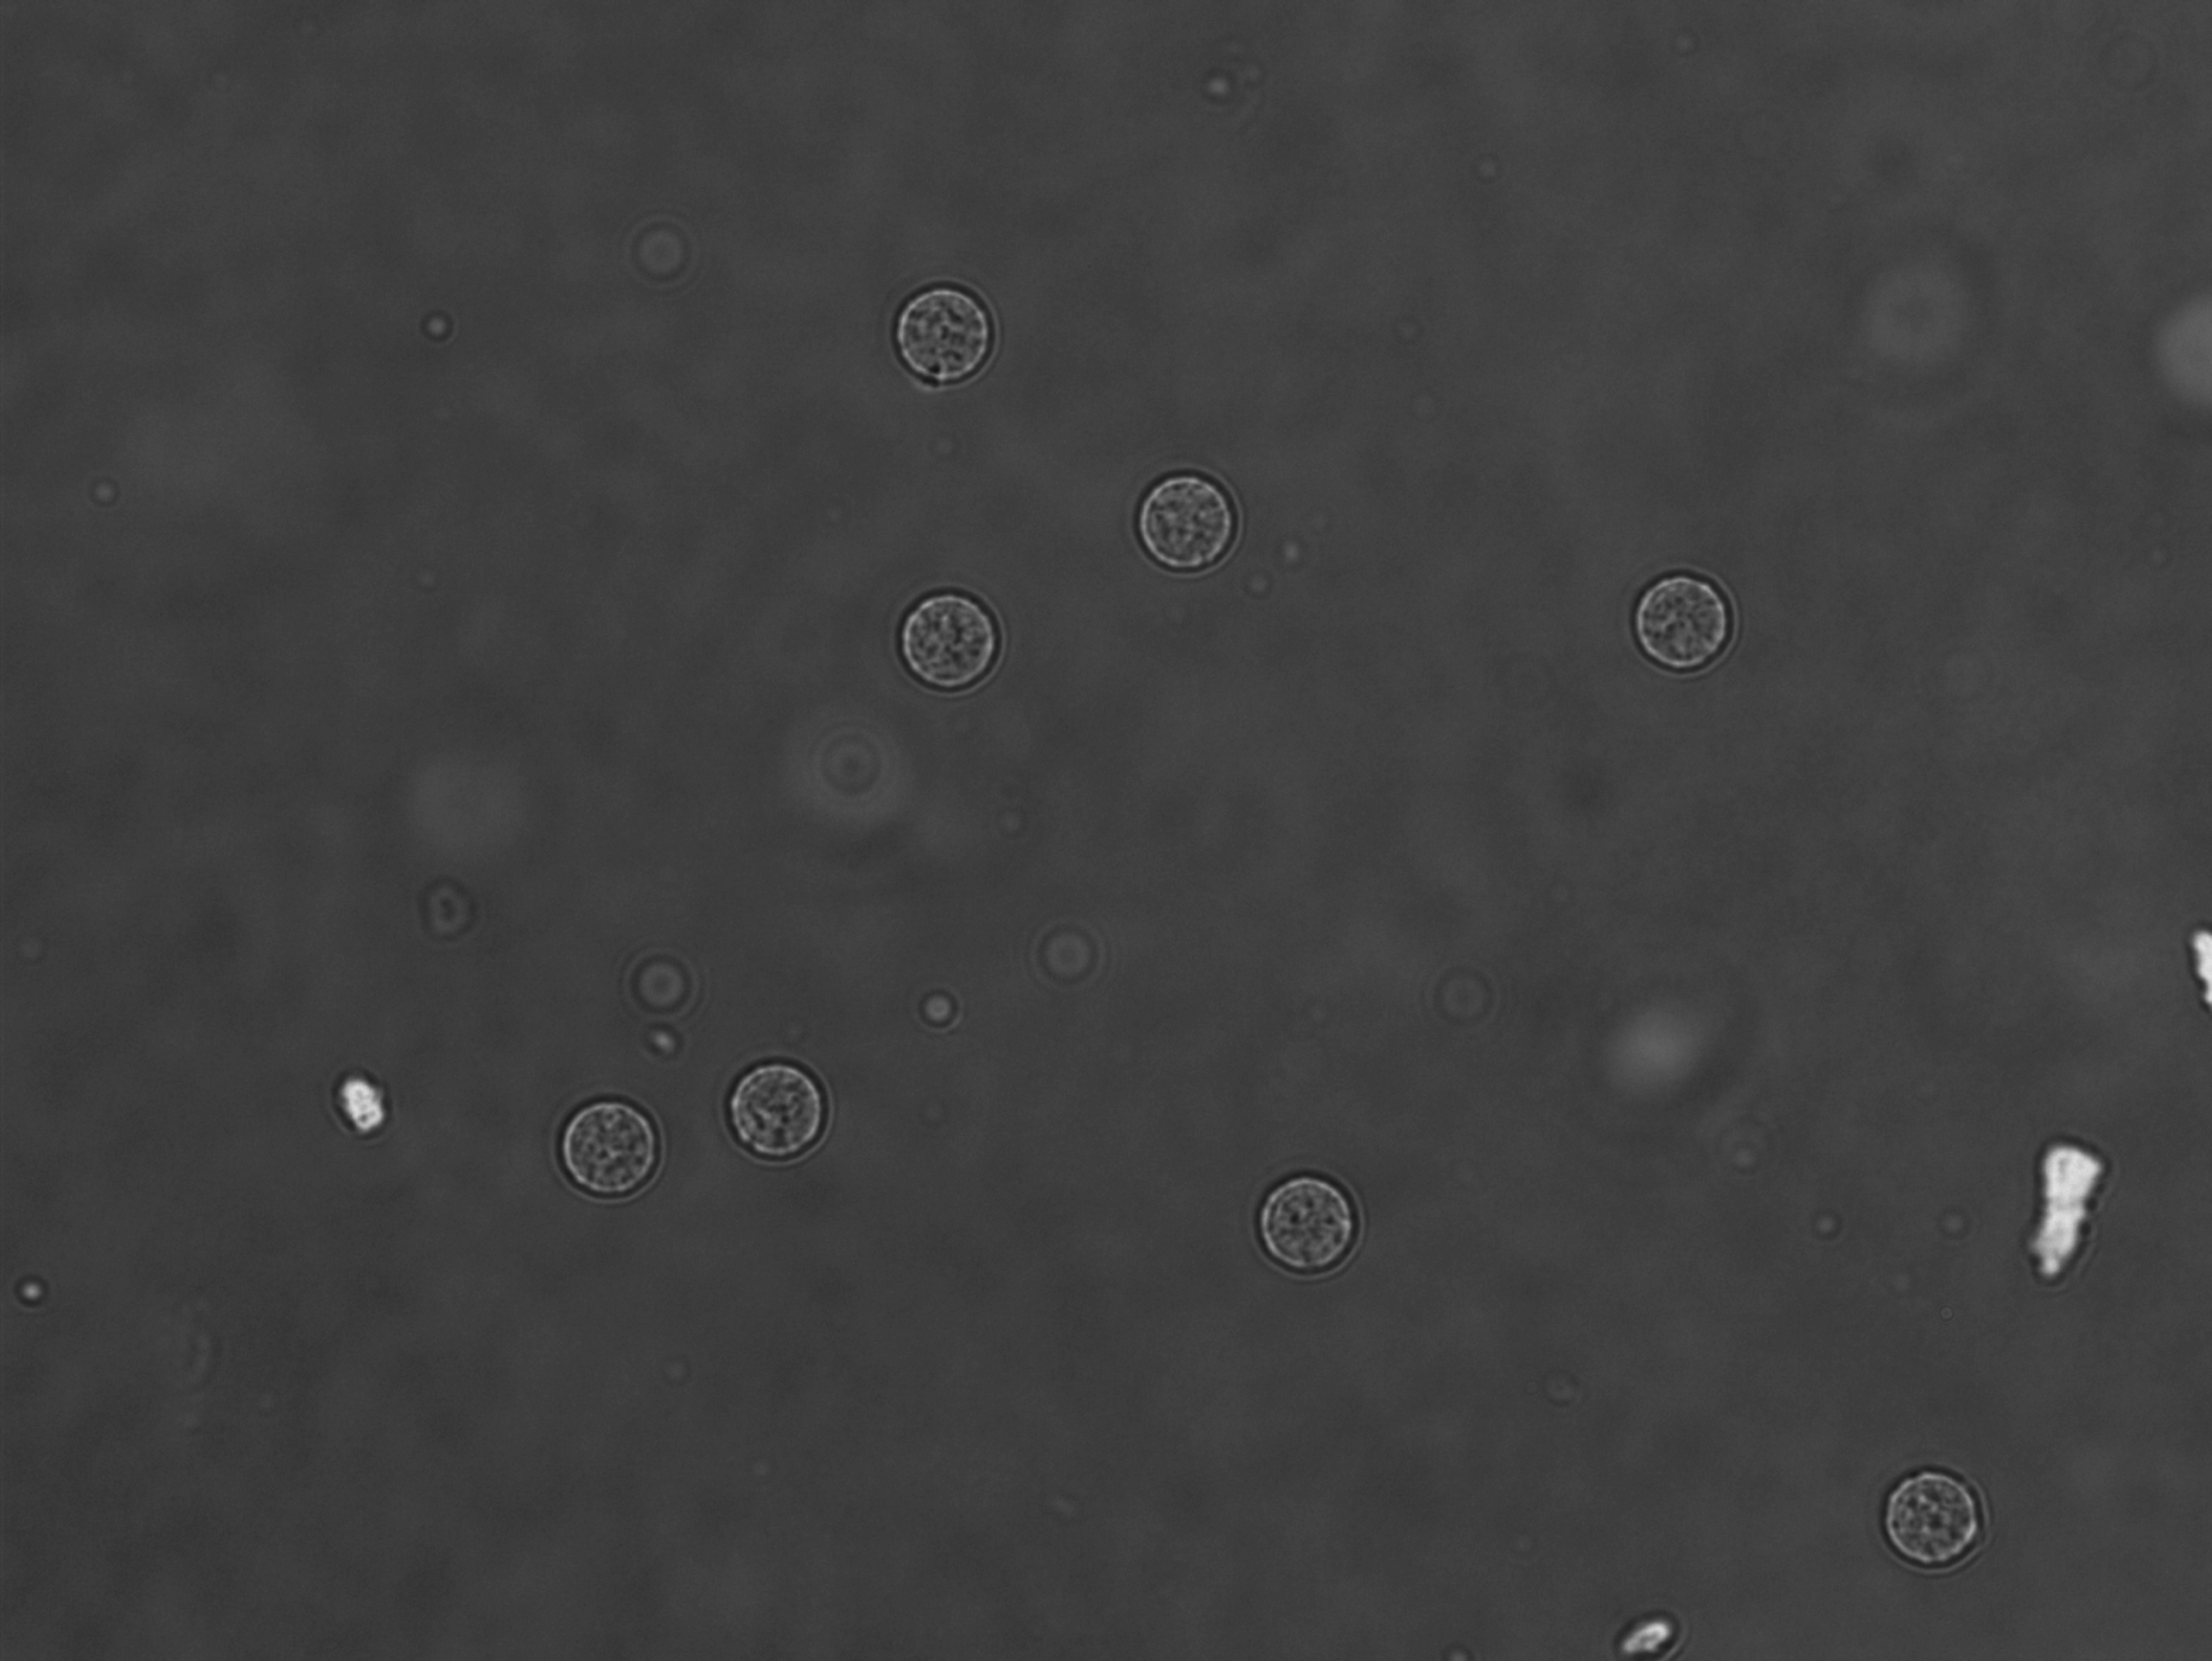depth:0: (691, 1036, 867, 1195), (1225, 1148, 1382, 1307), (1868, 1445, 2017, 1602), (1615, 553, 1767, 700), (881, 567, 1022, 710), (1113, 459, 1256, 598), (550, 1078, 686, 1223), (865, 276, 1017, 403)
